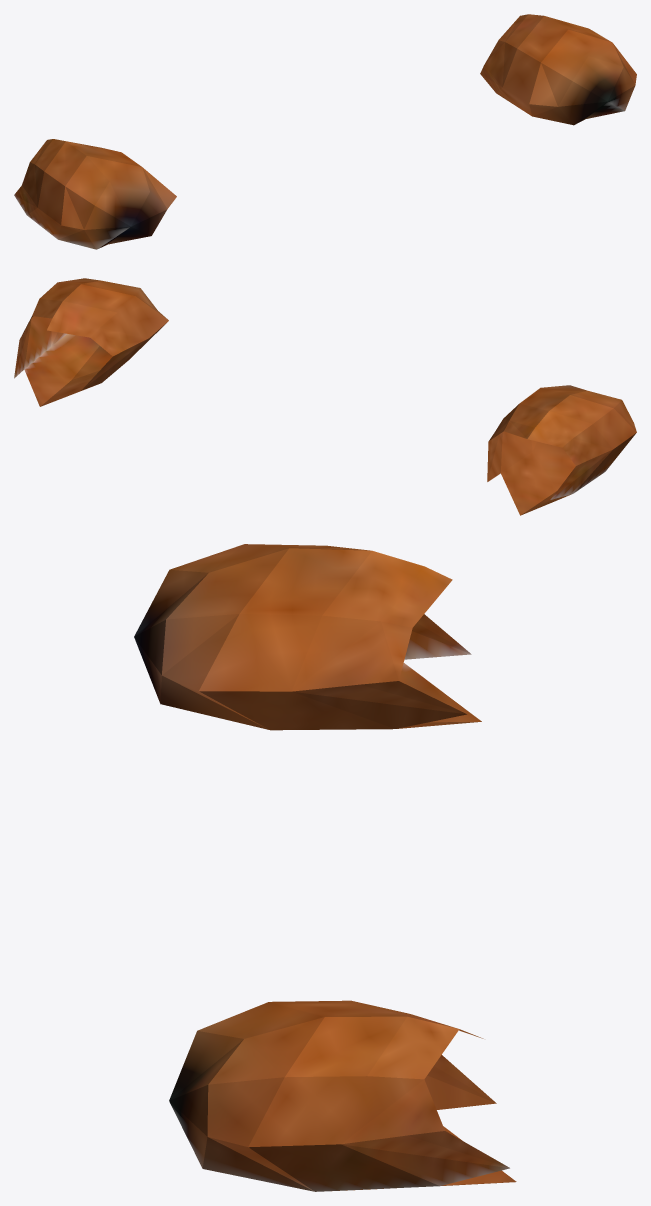
File: CrabEye.obj
The picture shows the model from 3 angles, top to bottom: view 1: azimuth 30°, elevation 25°; view 2: azimuth 150°, elevation 25°; view 3: azimuth 270°, elevation 25°; orthographic projection. The views are drawn at different scales.
Visible parts, largest first — view 1: polySurface17; view 2: polySurface17; view 3: polySurface17.
Boxes of the visible parts, x1,y1,x2,y2 form: polySurface17: (14,14,636,249); polySurface17: (14,278,636,515); polySurface17: (134,544,516,1191).
Bounding box in the file's own units: 0.3194 × 0.0463 × 0.0922.
1 material, 1 textured.
